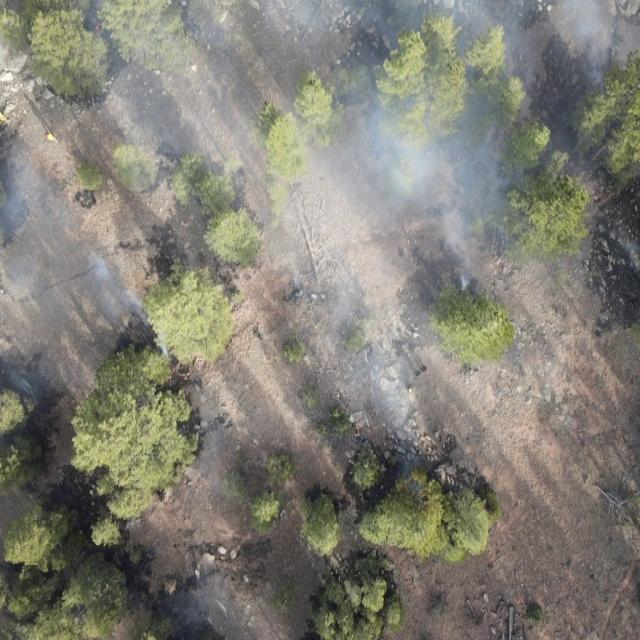fire: (88, 22, 106, 38)
smoke: (77, 0, 640, 170), (225, 167, 509, 449), (0, 138, 161, 380), (169, 574, 241, 640)
